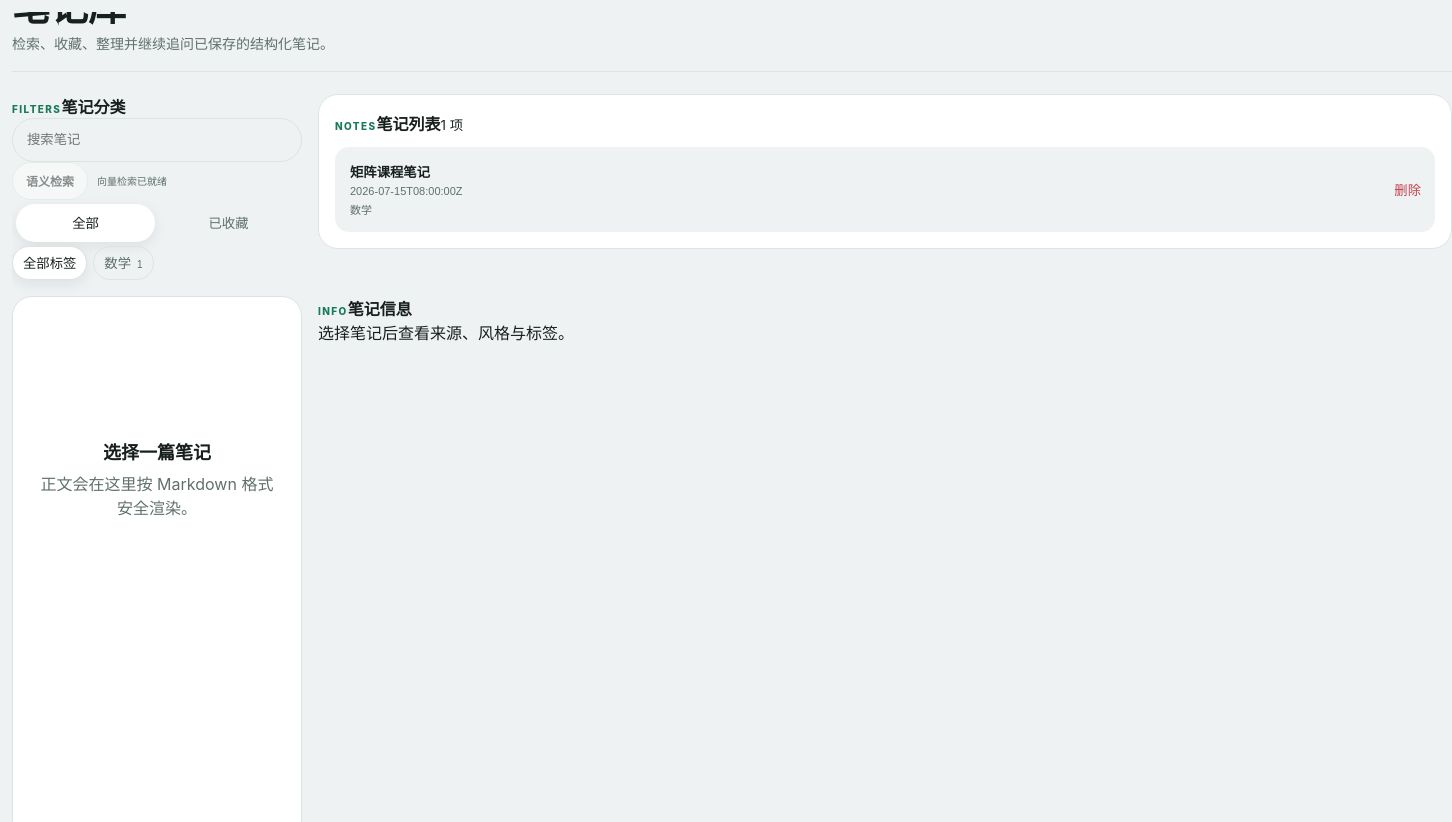
Test: LibraryWorkspace › separates real filters, note list, safe reader and selected-note inspector
(page scrolled)
Expected: the navigation bar "笔记分类" is shown, [12,94,302,280]
Expected: the element "笔记列表" is shown, [318,94,1451,249]
What coordinates should you click on to do the following:
click the button with aria-label "打开笔记 矩阵课程笔记"
I would click on:
 (390, 172)
Its box is [341,153,1382,226].
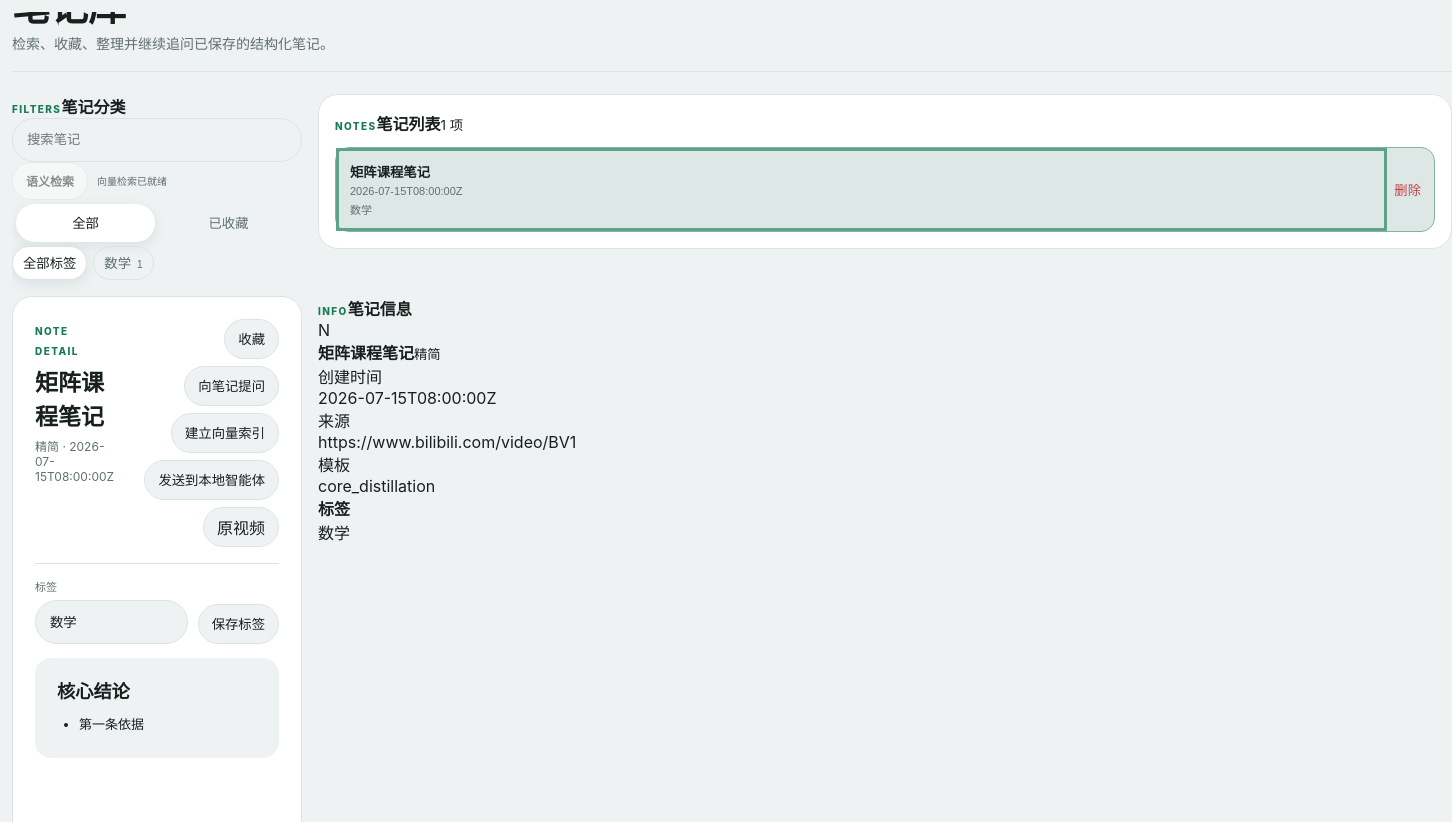
Expected: the element named "笔记正文" is shown, [12,296,302,821]
Now the element "笔记信息" shows "矩阵课程笔记", box [318,343,414,363]
Now the element "笔记信息" shows "数学", box [318,523,350,543]
